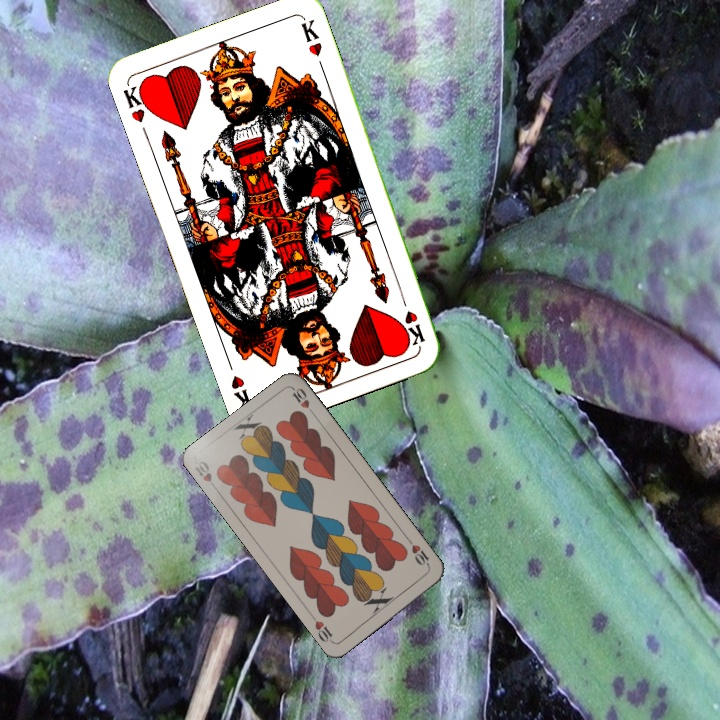H10: (191, 457, 221, 494), (404, 535, 433, 570)
HK: (396, 290, 428, 349), (119, 78, 155, 125)
